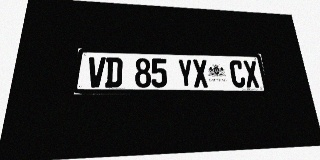5: (151, 58, 167, 87)
8: (135, 58, 151, 87)
C: (229, 60, 246, 87)
D: (105, 57, 123, 87)
V: (87, 57, 106, 87)
X: (192, 59, 209, 87), (243, 60, 260, 87)
Y: (177, 59, 194, 87)
